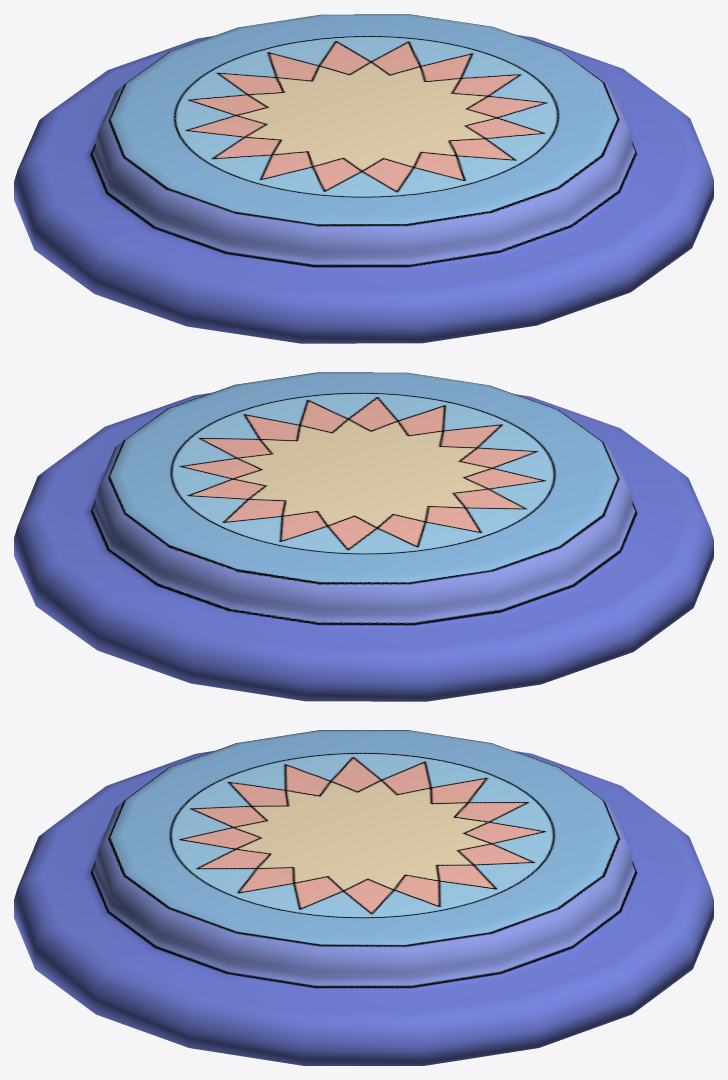
File: podium.glb
3 renders of one model, top to bottom at view 1: azimuth 30°, elevation 25°; view 2: azimuth 150°, elevation 25°; view 3: azimuth 270°, elevation 25°, orthographic.
Visible parts, largest first — view 1: StatuePodium; view 2: StatuePodium; view 3: StatuePodium.
Part boxes in pixels (x1,y1,x2,y2): StatuePodium: (14, 14, 713, 343); StatuePodium: (14, 372, 713, 701); StatuePodium: (14, 730, 713, 1065).
Bounding box in the file's own units: 3.2 × 0.4198 × 3.2.
Materials: 1 (1 with a texture image).
